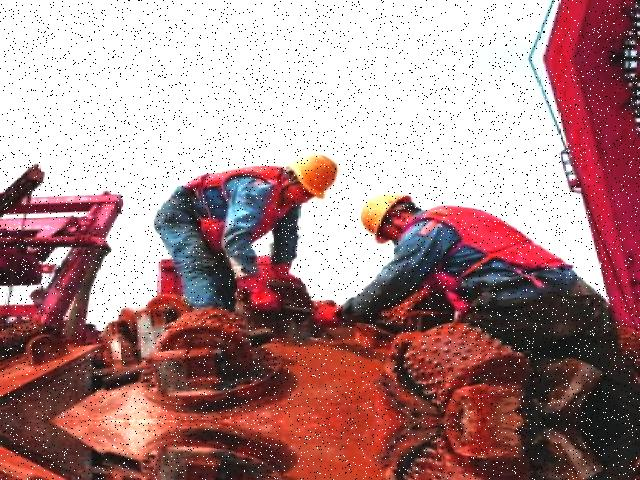Helmet: (354, 186, 414, 251), (285, 150, 339, 199)
